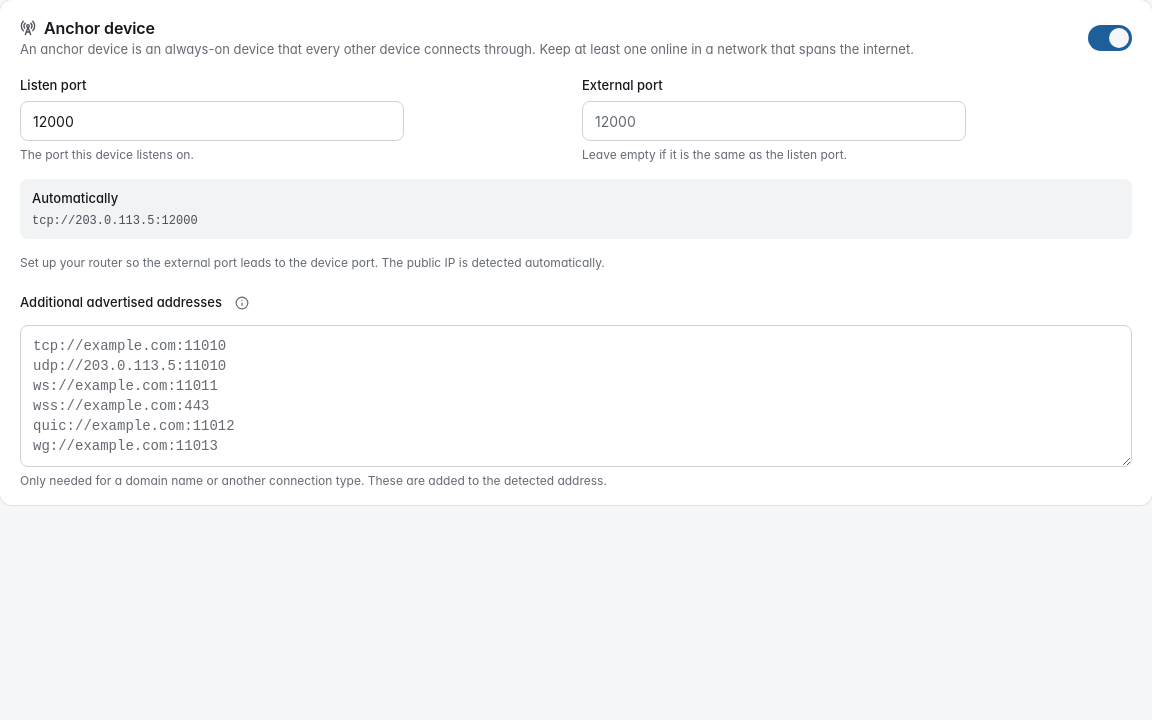
DeviceHubCard › uses the current listen port as the external port placeholder
Expected: the number field labelled "External port" is not empty, [582, 101, 966, 141]
Step 1. Replace the text in the number field labelled "Listen port" with "13000" → {"x": 212, "y": 121}, box [20, 101, 404, 141]
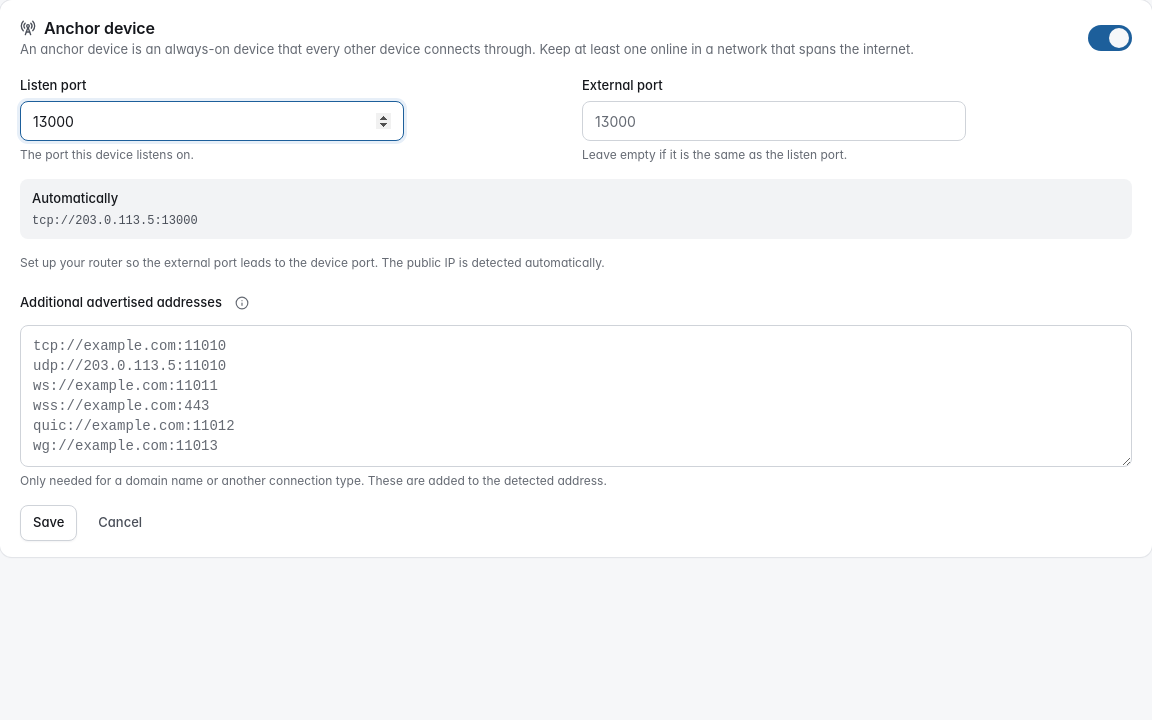
Expected: the text "tcp://203.0.113.5:13000" is shown, [32, 214, 198, 228]
